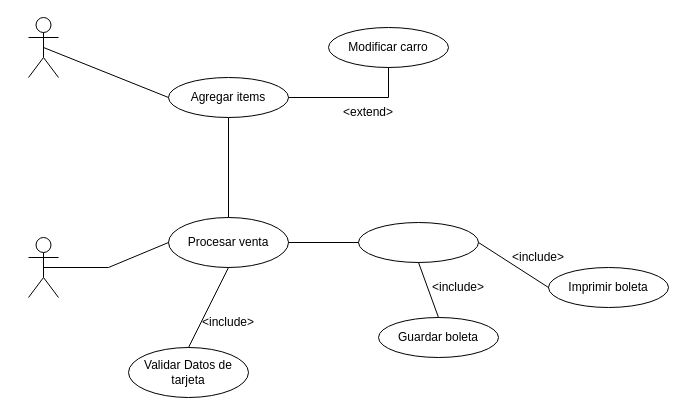
Image size: 686x415. Some labels were removed from this diagram. The shapes that lost their labels are listed below. From the top down, each one's box as (x1, y1, x2, y2) in pixels, then its label:
(28, 16, 58, 78): usuario
(358, 222, 478, 262): Emitir boleta
(28, 236, 58, 298): transbank
